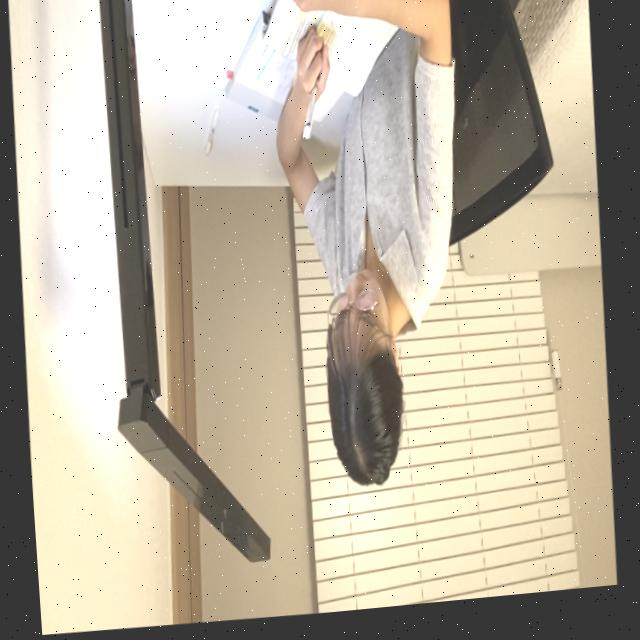studying-person: (203, 0, 479, 519)
